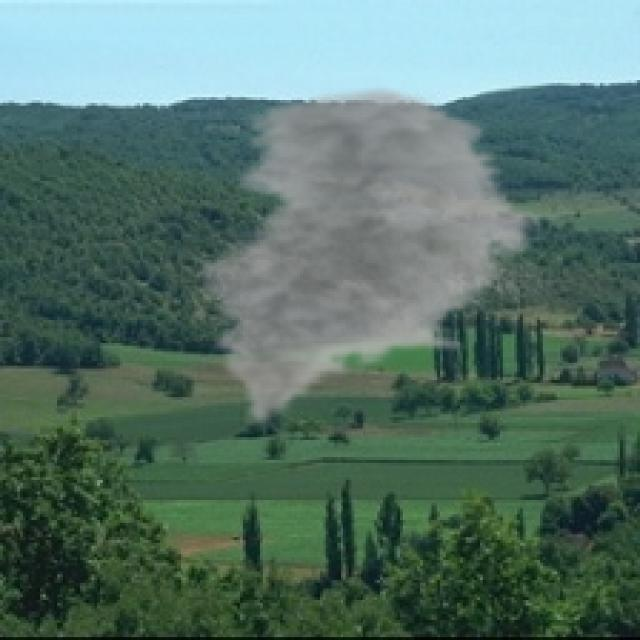Smoke: (188, 82, 546, 428)
